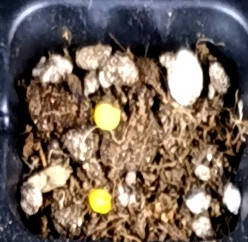chilli seed: (93, 102, 121, 131), (88, 189, 111, 213)
